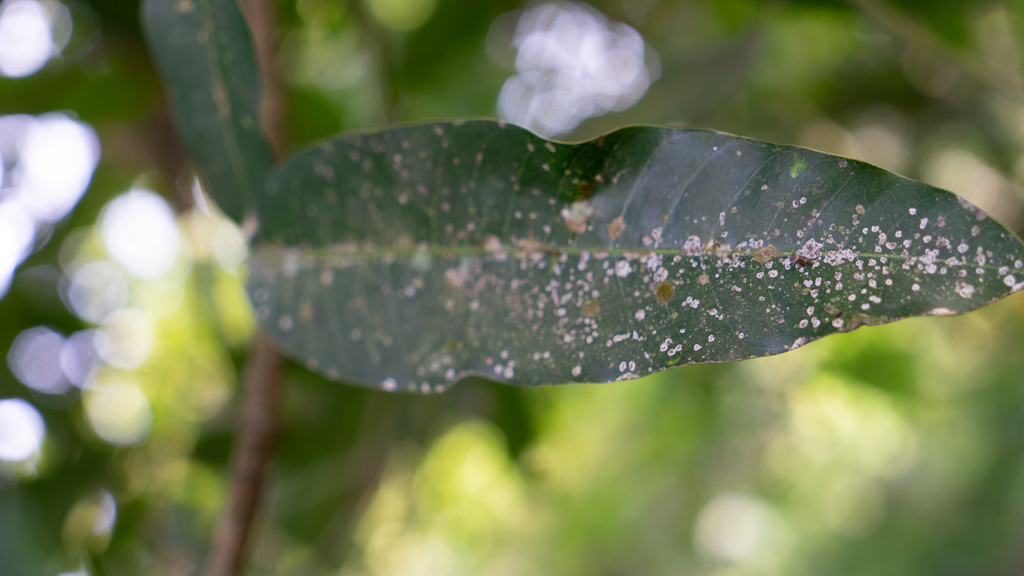Rust: (247, 143, 1013, 372)
